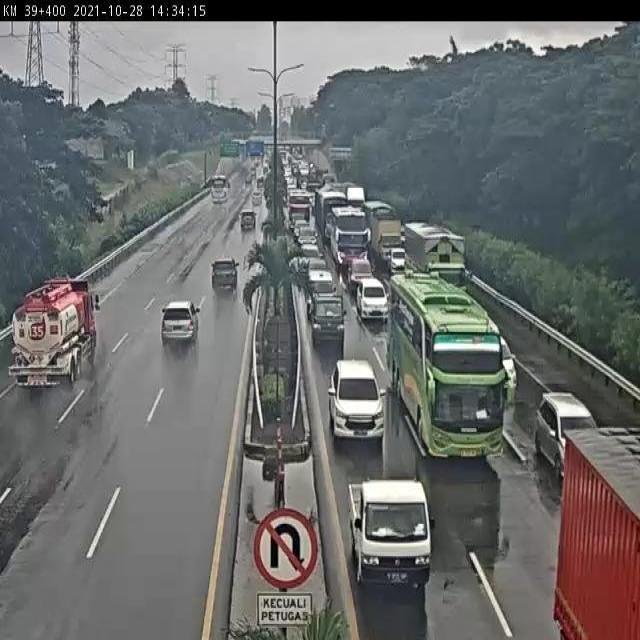Bus: (386, 270, 506, 460)
Car: (346, 472, 431, 585), (328, 358, 385, 448), (312, 293, 348, 352), (159, 299, 201, 347), (210, 255, 240, 290)
Truck: (7, 278, 101, 388)
